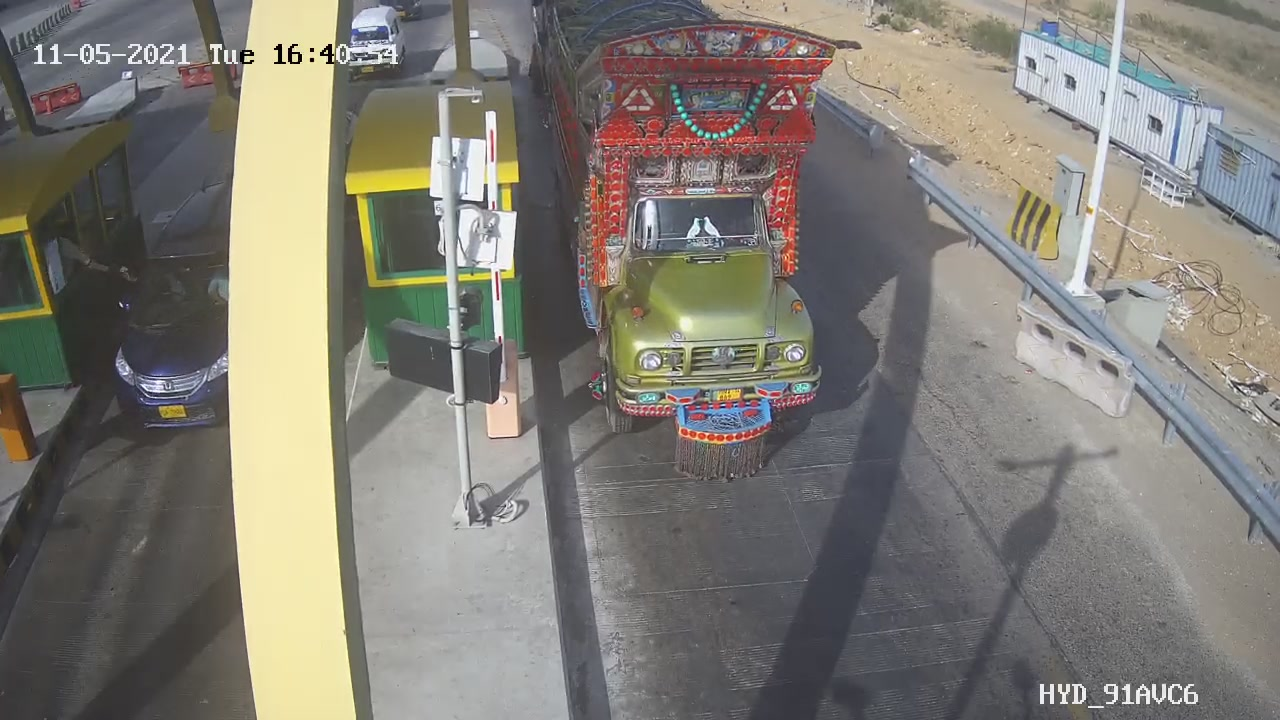F5: (517, 4, 870, 503)
